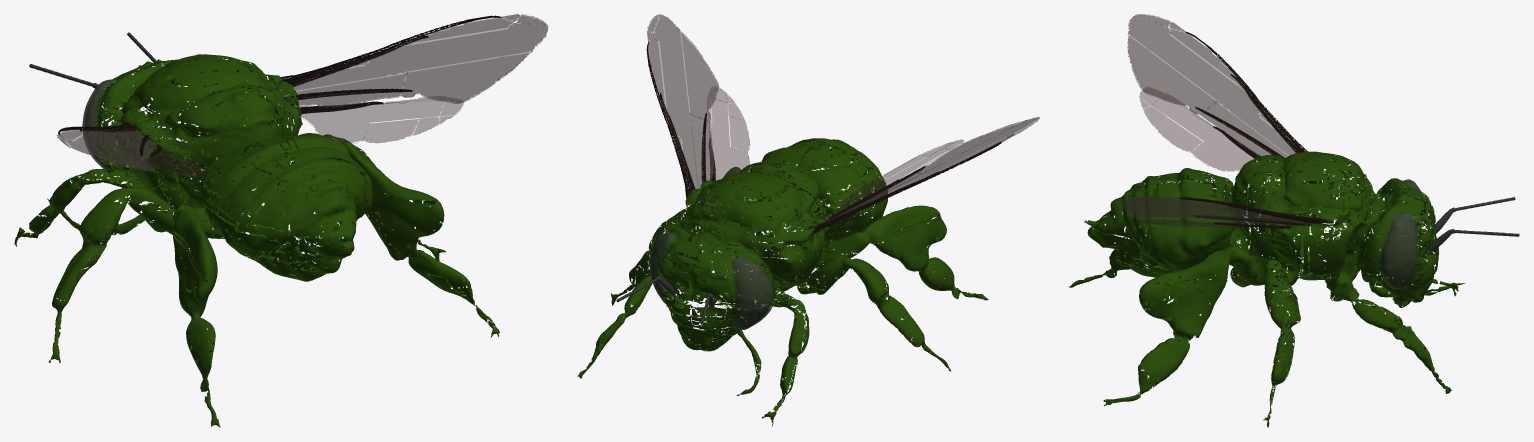
The model's file is n2__orchidbee.glb.
3 renders of one model, left to right at view 1: azimuth 30°, elevation 25°; view 2: azimuth 150°, elevation 25°; view 3: azimuth 270°, elevation 25°, orthographic. The views are drawn at different scales.
Visible parts, largest first — view 1: Euglossa_azureoviridis_export1_0, Wing_right_front.001_11, Wing_right_back.001_12, Wing_left_front.001_9, Wing_right_front_5, Eye_left_4, Wing_left_back.001_10, Wing_left_front_7; view 2: Euglossa_azureoviridis_export1_0, Wing_right_front.001_11, Wing_right_back.001_12, Wing_left_front.001_9, Eye_left_4, Wing_left_back.001_10, Wing_right_front_5, Wing_left_front_7, Eye_right_3; view 3: Euglossa_azureoviridis_export1_0, Wing_left_front.001_9, Wing_left_back.001_10, Wing_right_front.001_11, Eye_right_3, Wing_left_front_7, Wing_right_front_5, Wing_right_back.001_12, Antenna_right_1, Antenna_left_2.
Part boxes in pixels (box(x1,y1,x2,y2)): Euglossa_azureoviridis_export1_0: box(14, 54, 499, 427); Wing_right_front.001_11: box(271, 14, 548, 108); Wing_right_back.001_12: box(299, 97, 463, 143); Wing_left_front.001_9: box(56, 125, 157, 172); Wing_right_front_5: box(273, 15, 501, 100); Eye_left_4: box(82, 79, 119, 175); Wing_left_back.001_10: box(145, 148, 203, 176); Wing_left_front_7: box(58, 122, 149, 156); Euglossa_azureoviridis_export1_0: box(577, 138, 988, 426); Wing_right_front.001_11: box(647, 14, 718, 209); Wing_right_back.001_12: box(708, 88, 749, 193); Wing_left_front.001_9: box(810, 117, 1039, 229); Eye_left_4: box(731, 257, 773, 329); Wing_left_back.001_10: box(832, 139, 964, 215); Wing_right_front_5: box(646, 42, 706, 205); Wing_left_front_7: box(807, 141, 1001, 234); Eye_right_3: box(650, 232, 674, 304); Euglossa_azureoviridis_export1_0: box(1069, 151, 1465, 427); Wing_left_front.001_9: box(1127, 14, 1302, 175); Wing_left_back.001_10: box(1139, 87, 1257, 171); Wing_right_front.001_11: box(1121, 196, 1318, 226); Eye_right_3: box(1381, 212, 1418, 289); Wing_left_front_7: box(1185, 31, 1322, 172); Wing_right_front_5: box(1179, 197, 1327, 225); Wing_right_back.001_12: box(1139, 219, 1252, 227); Antenna_right_1: box(1426, 229, 1519, 254); Antenna_left_2: box(1431, 197, 1515, 237).
Size of the model in its own units: 17.45 by 10.27 by 17.33.
